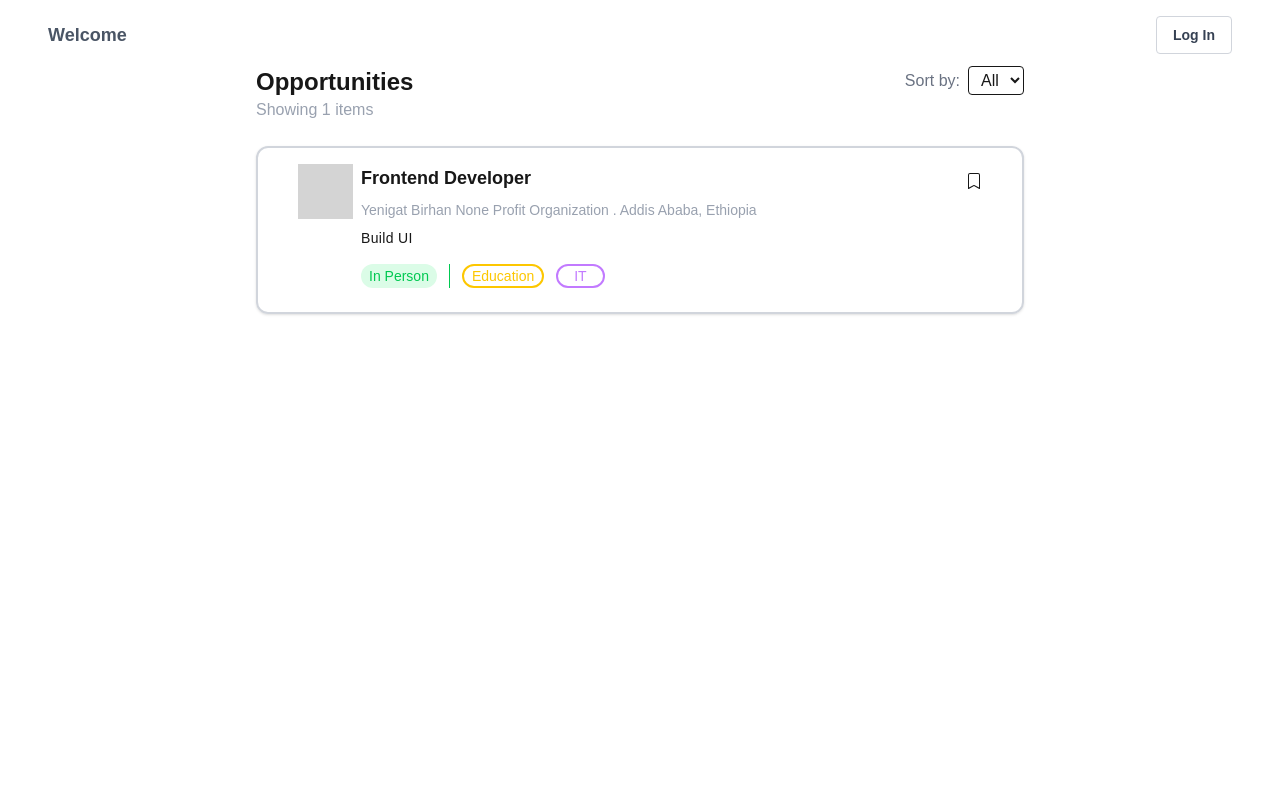
Test: Unauthorized Bookmark Flow › should show login modal when trying to bookmark while unauthenticated
Check: the link "Frontend Developer" is shown, box [298,164,794,296]
What coordinates should you click on to do the following:
click the button named "Add Bookmark"
I would click on:
 (974, 181)
Its box is [966,173,982,189].
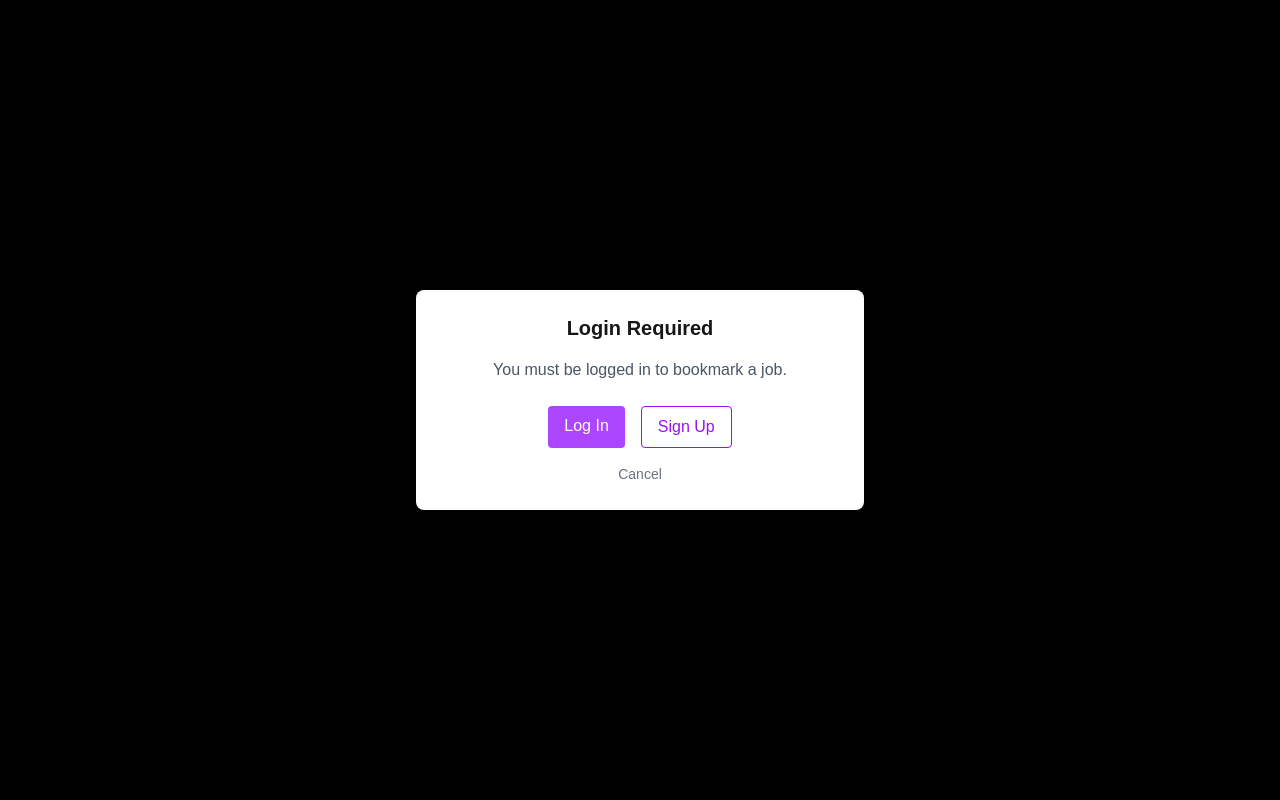
Check: the element with test id "login-prompt" is shown
Check: the heading "Login Required" is shown, box [567,317,713,339]
Check: the text "You must be logged in" is shown, box [493,361,787,378]
What coordinates should you click on to do the following:
click the button "Cancel"
I would click on:
 (640, 474)
Its box is [618,464,662,484].
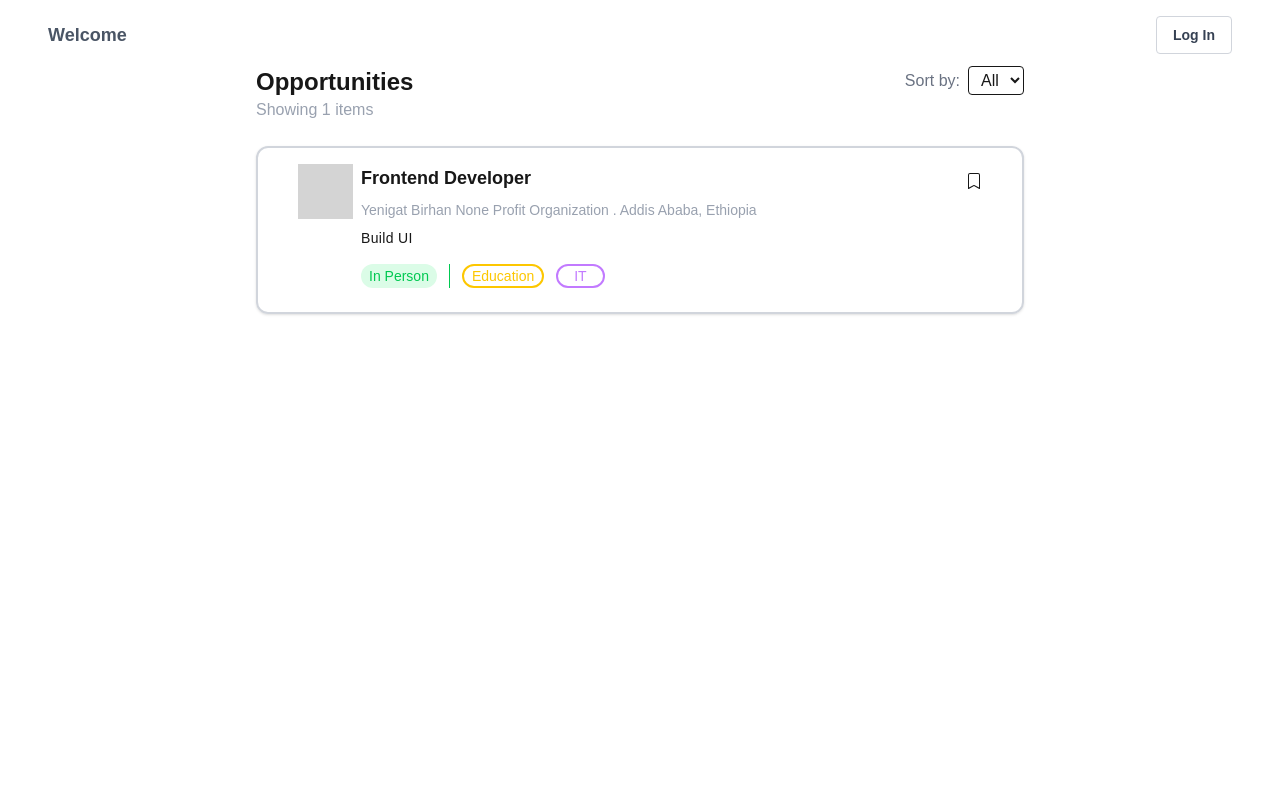
Check: the element with test id "login-prompt" is gone
